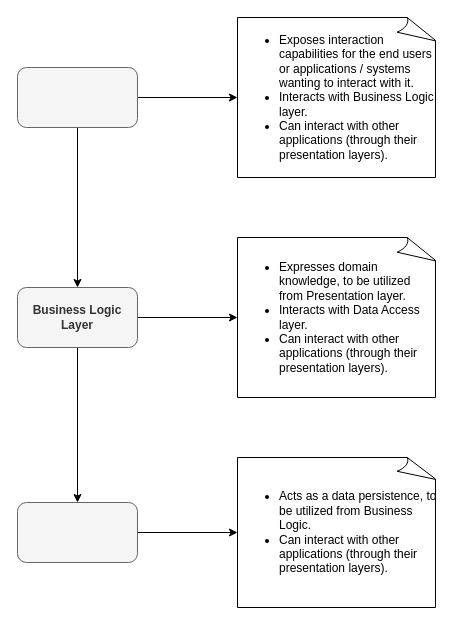
The diagram is 455 pixels wide and 625 high, and some of its shapes have lost their labels. The centre of each missing label's shape, as x and y in pixels:
Data Access Layer: the point at 77,532
Presentation Layer: the point at 77,97
